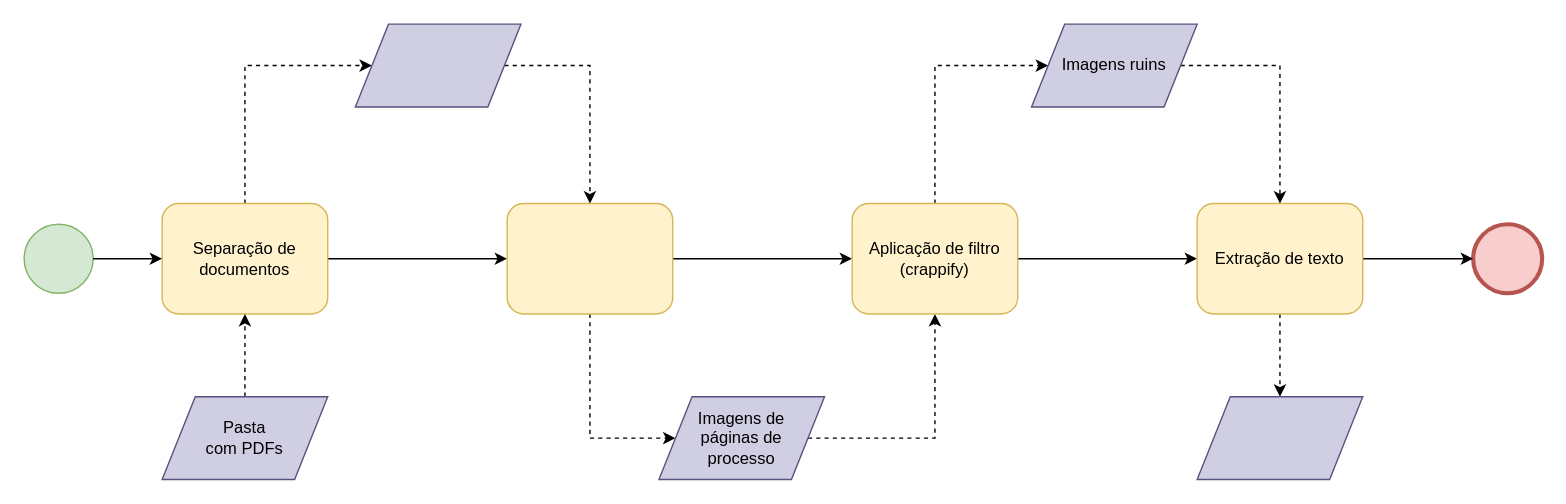
Some shapes in this 1566 by 504 pixel diagram are drawn without their labels. The box of each missing label's shape, as (x1, y1, x2, y2) in pixels:
Extração de Imagem de PDF: (506, 202, 673, 314)
PDFs que precisam de OCR: (354, 23, 521, 107)
Texto: (1196, 395, 1363, 480)
